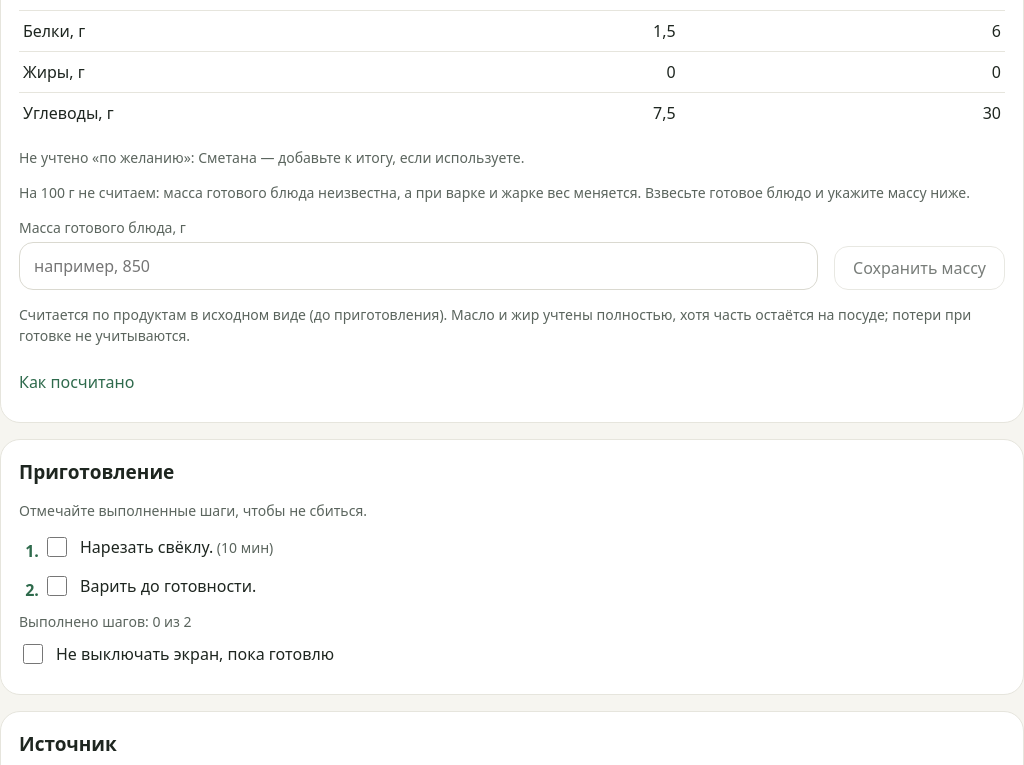
Scenario: КБЖУ › на странице рецепта: на порцию и на всё блюдо, источник, неучтённое «по желанию»
This screenshot has width=1024, height=765.
(page scrolled)
Expected: the cell "1,5" is shown, [405,10,680,51]
Expected: the cell "30" in the row of "Углеводы, г" is shown, [983,102,1001,124]
Click the heading "Как посчитано". click: (77, 382)
box: [19,371,134,393]
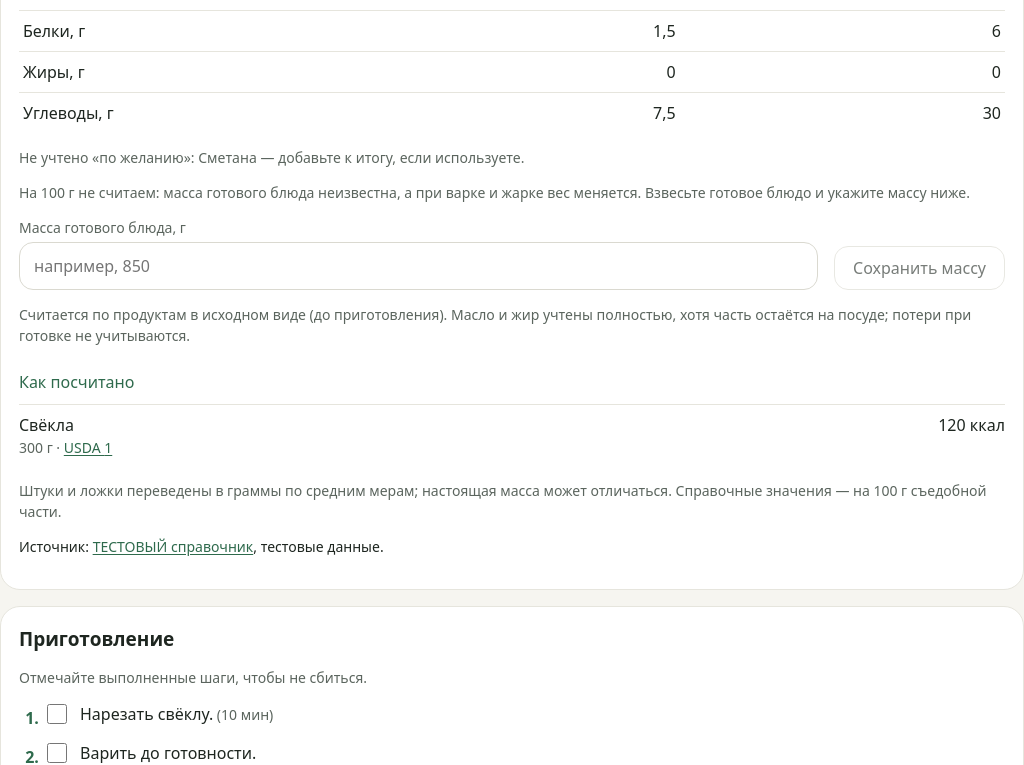
Expected: the text "Свёкла 300 г · USDA 1" is shown, [19,413,112,458]
